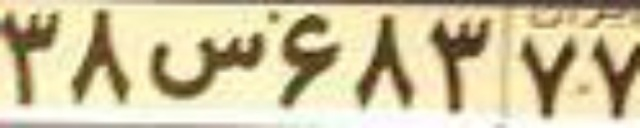3: (428, 16, 488, 112), (1, 9, 59, 104)
6: (277, 13, 338, 108)
7: (518, 35, 576, 117), (589, 35, 639, 118)
8: (70, 8, 128, 103), (356, 16, 415, 105)
sin: (148, 31, 263, 100)
